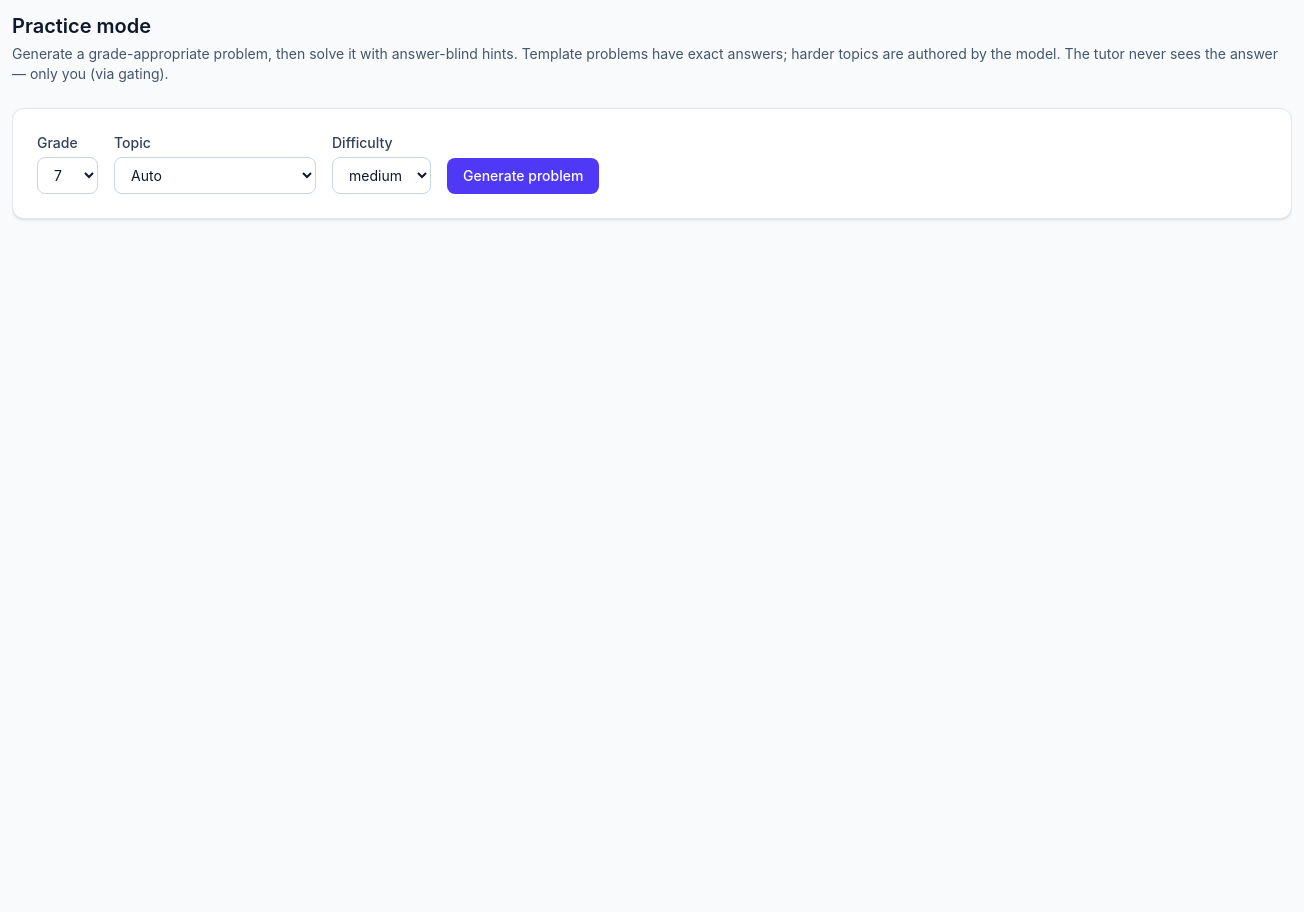
it: PracticeView › generates a problem and hides the answer in the solve flow
Click the button "Generate problem" at (523, 176), box [447,158,599,194]
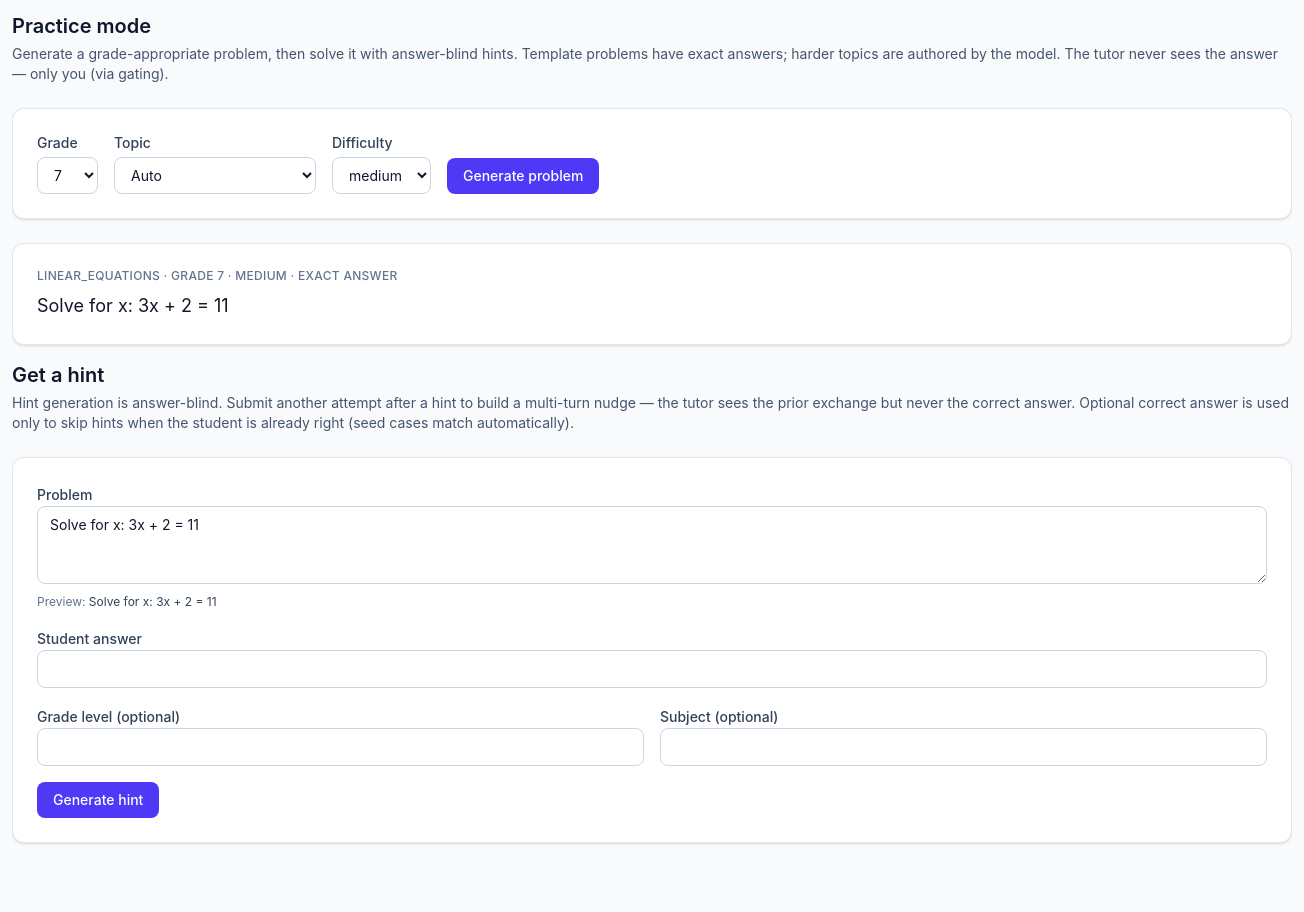
Expected: the text "Solve for x: 3x + 2 = 11" below "linear_equations" is shown, [37,295,229,316]
Expected: the field labelled "Student answer" is shown, [37,650,1267,688]
